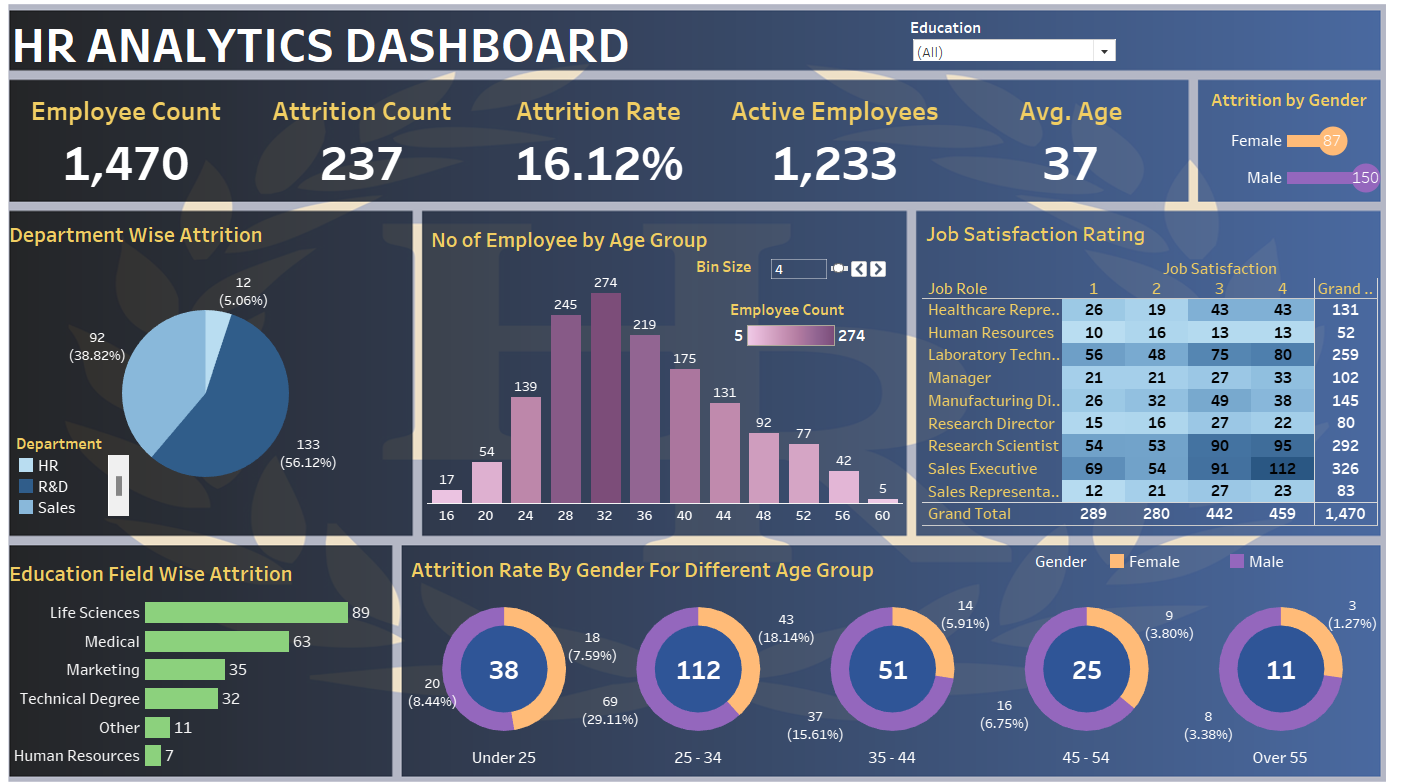

The dashboard page shown, as its layout file describes it:
{"tool":"tableau","page":{"name":"HR Analytics Dashboard","canvas":[1000,1000],"units":"permille","ordinal":0},"visuals":[{"type":"image","param":"D:/TABLEAU PROJECT MATERIAL(HR_ANALYTICS)/HR background final background.png","box":[5.1,9.8,989.9,980.3]},{"type":"filter","title":"Department Wise Attrition","param":"[federated.0eamqty0pprgg015lr8q6125nh7w].[none:Education:nk]","box":[636.1,30.8,132.3,55.4]},{"type":"text","box":[65.2,32,447.5,61.6]},{"type":"worksheet","title":"Attrition by Gender","mark":"Automatic","rows":["Gender"],"cols":["Calculation_1146447586119233536","Calculation_1146447586119233536"],"box":[824.1,113.3,112.7,140.4]},{"type":"worksheet","title":"KPI","mark":"Automatic","box":[65.2,118.2,747.5,134.2]},{"type":"worksheet","title":"Job Satisfaction Rating","mark":"Square","rows":["Job Role"],"cols":["Job Satisfaction"],"box":[643.7,278.3,288.6,387.9]},{"type":"worksheet","title":"Department Wise Attrition","mark":"Pie","box":[63.3,279.6,253.8,389.2]},{"type":"worksheet","title":"No of Employee by Age Group","mark":"Automatic","rows":["Employee Count"],"cols":["Age (bin)"],"box":[330.4,285.7,301.3,379.3]},{"type":"parameter","param":"[Parameters].[Parameter 1]","box":[500.6,328.8,122.2,38.2]},{"type":"legend","title":"No of Employee by Age Group","param":"[federated.0eamqty0pprgg015lr8q6125nh7w].[sum:Employee Count:qk]","box":[522.1,383,88.6,97.3]},{"type":"legend","title":"Department Wise Attrition","param":"[federated.0eamqty0pprgg015lr8q6125nh7w].[none:Department:nk]","box":[70.2,549.3,72.8,104.7]},{"type":"worksheet","title":"Attrition Rate By Gender For Different Age Group","mark":"Pie","rows":["Calculation_1345731870982651905","Calculation_1345731870982651905"],"cols":["CF_age band"],"box":[317.7,697,614.6,272.2]},{"type":"legend","title":"Attrition Rate By Gender For Different Age Group","param":"[federated.0eamqty0pprgg015lr8q6125nh7w].[none:Gender:nk]","box":[715.2,697,210.8,43.1]},{"type":"worksheet","title":"Education Field Wise Attrition","mark":"Automatic","rows":["Education Field"],"cols":["Calculation_1146447586119233536"],"box":[63.3,702,240.5,268.5]}]}

Visuals, with their boxes on the dashboard's canvas, which has no fixed pixel size, in thousandths of its width and height (x1, y1, x2, y2). These are canvas units, not pixel positions in the 1404x782 screenshot, which may show the page scaled, cropped or inside an application window:
image: (5, 10, 995, 990)
"Department Wise Attrition" filter: (636, 31, 768, 86)
text: (65, 32, 513, 94)
"Attrition by Gender" worksheet: (824, 113, 937, 254)
"KPI" worksheet: (65, 118, 813, 252)
"Job Satisfaction Rating" worksheet (Square marks): (644, 278, 932, 666)
"Department Wise Attrition" worksheet (Pie marks): (63, 280, 317, 669)
"No of Employee by Age Group" worksheet: (330, 286, 632, 665)
parameter: (501, 329, 623, 367)
"No of Employee by Age Group" legend: (522, 383, 611, 480)
"Department Wise Attrition" legend: (70, 549, 143, 654)
"Attrition Rate By Gender For Different Age Group" worksheet (Pie marks): (318, 697, 932, 969)
"Attrition Rate By Gender For Different Age Group" legend: (715, 697, 926, 740)
"Education Field Wise Attrition" worksheet: (63, 702, 304, 970)
